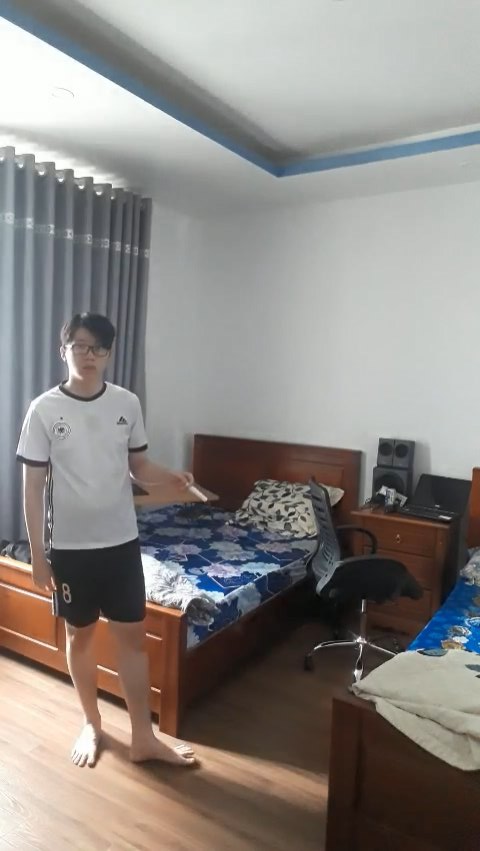cigarette: (184, 483, 209, 504)
person: (13, 306, 215, 796)
